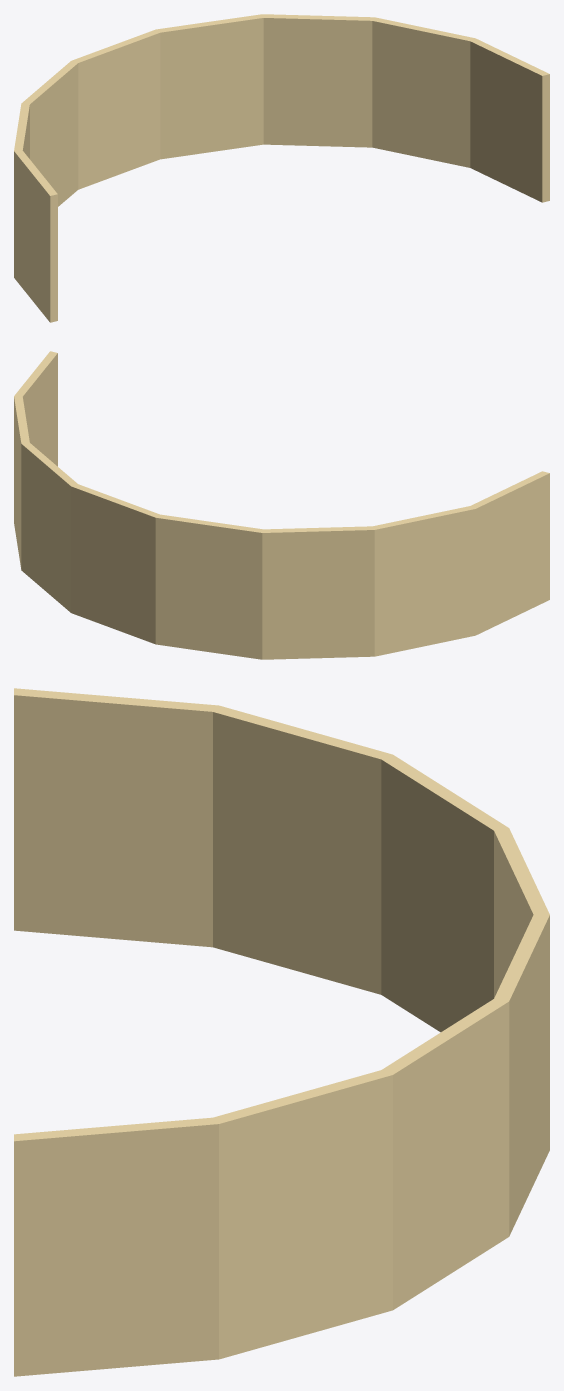
The picture shows the model from 3 angles, top to bottom: view 1: azimuth 30°, elevation 25°; view 2: azimuth 150°, elevation 25°; view 3: azimuth 270°, elevation 25°; orthographic projection. The views are drawn at different scales.
Parts seen in each view (by area): view 1: 低岸端盖_岸壁.001; view 2: 低岸端盖_岸壁.001; view 3: 低岸端盖_岸壁.001.
Boxes of the visible parts, x1,y1,x2,y2 form: 低岸端盖_岸壁.001: [14, 14, 549, 322]; 低岸端盖_岸壁.001: [14, 351, 549, 659]; 低岸端盖_岸壁.001: [14, 688, 549, 1376].
Size of the model in its own units: 0.784 by 0.19 by 0.392.
